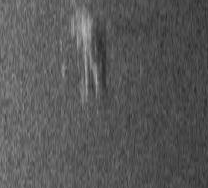man: (67, 1, 105, 104)
